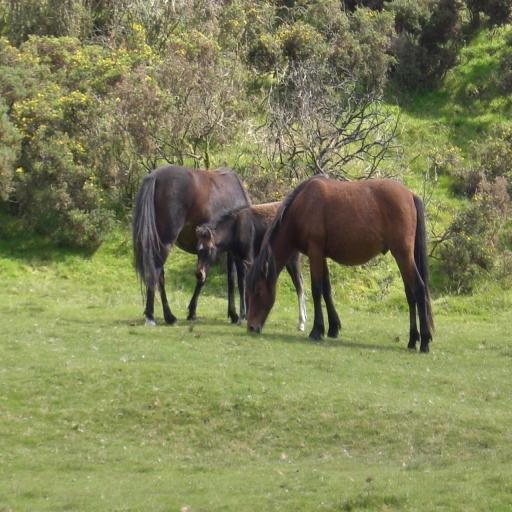horse: (244, 172, 436, 350), (130, 165, 258, 330), (195, 198, 308, 330)
